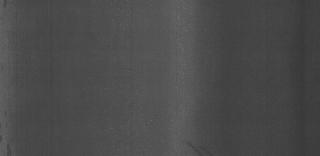water spot: (184, 130, 212, 156)
